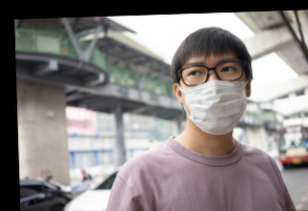with_mask: (180, 55, 248, 136)
